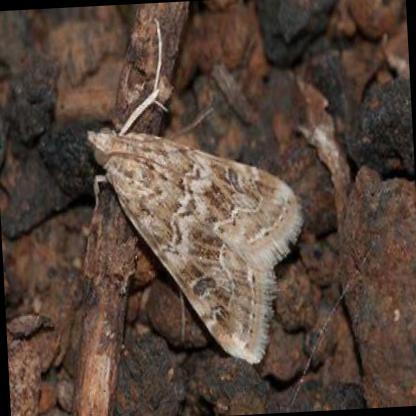Hellula undalis: (83, 19, 308, 369)
